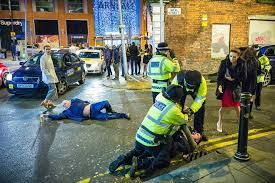10+: (1, 31, 273, 181)
down: (105, 112, 207, 180), (38, 92, 133, 130)
